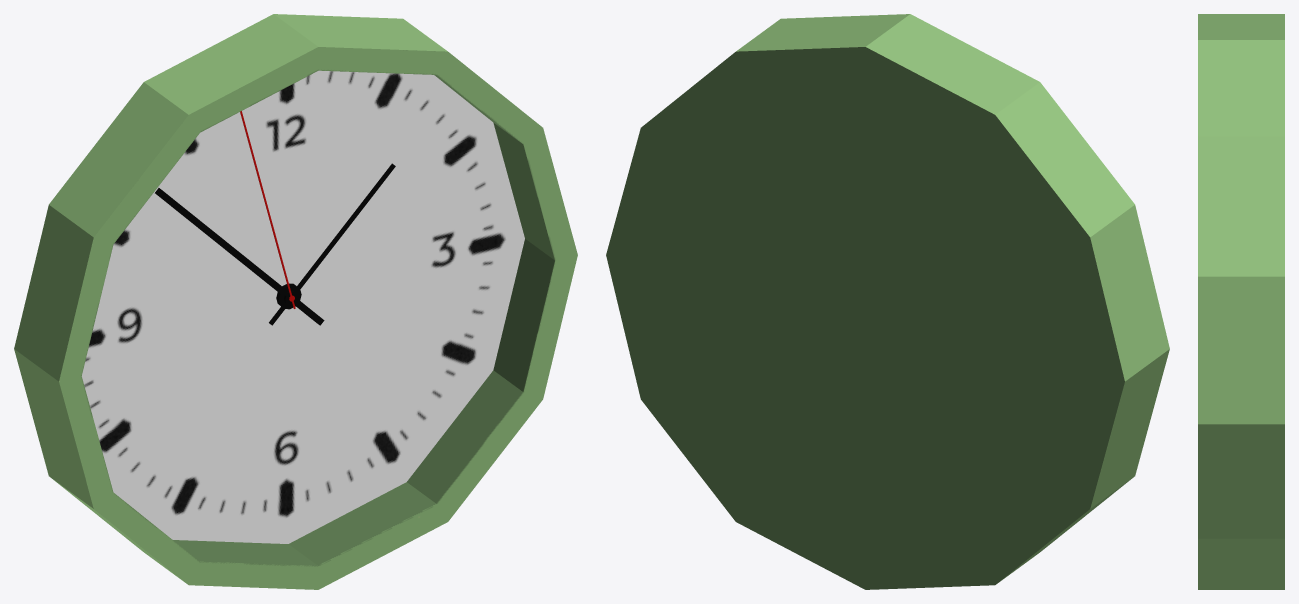
Rendered from Watch_Green.fbx.
3 renders of one model, left to right at view 1: azimuth 30°, elevation 25°; view 2: azimuth 150°, elevation 25°; view 3: azimuth 270°, elevation 25°, orthographic. The views are drawn at different scales.
Parts seen in each view (by area): view 1: Watch.003; view 2: Watch.003; view 3: Watch.003.
Part boxes in pixels (left/top/right/bottom): Watch.003: left=14, top=14, right=577, bottom=589; Watch.003: left=606, top=14, right=1169, bottom=589; Watch.003: left=1198, top=14, right=1284, bottom=589.
Bounding box in the file's own units: 30 × 30 × 4.5.
